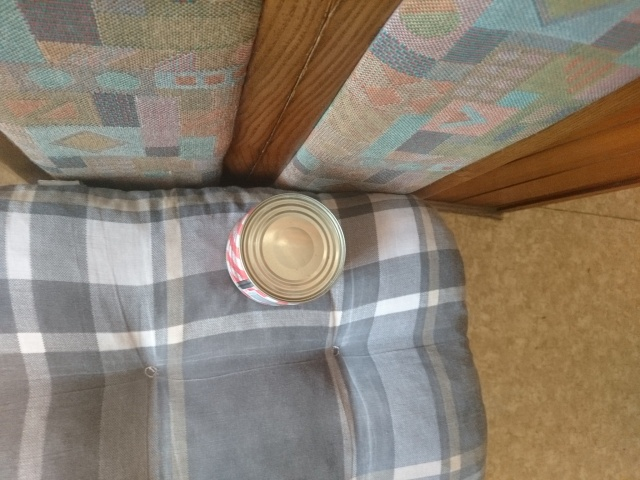Podravka Luncheon Meat 150g: (221, 189, 350, 310)
